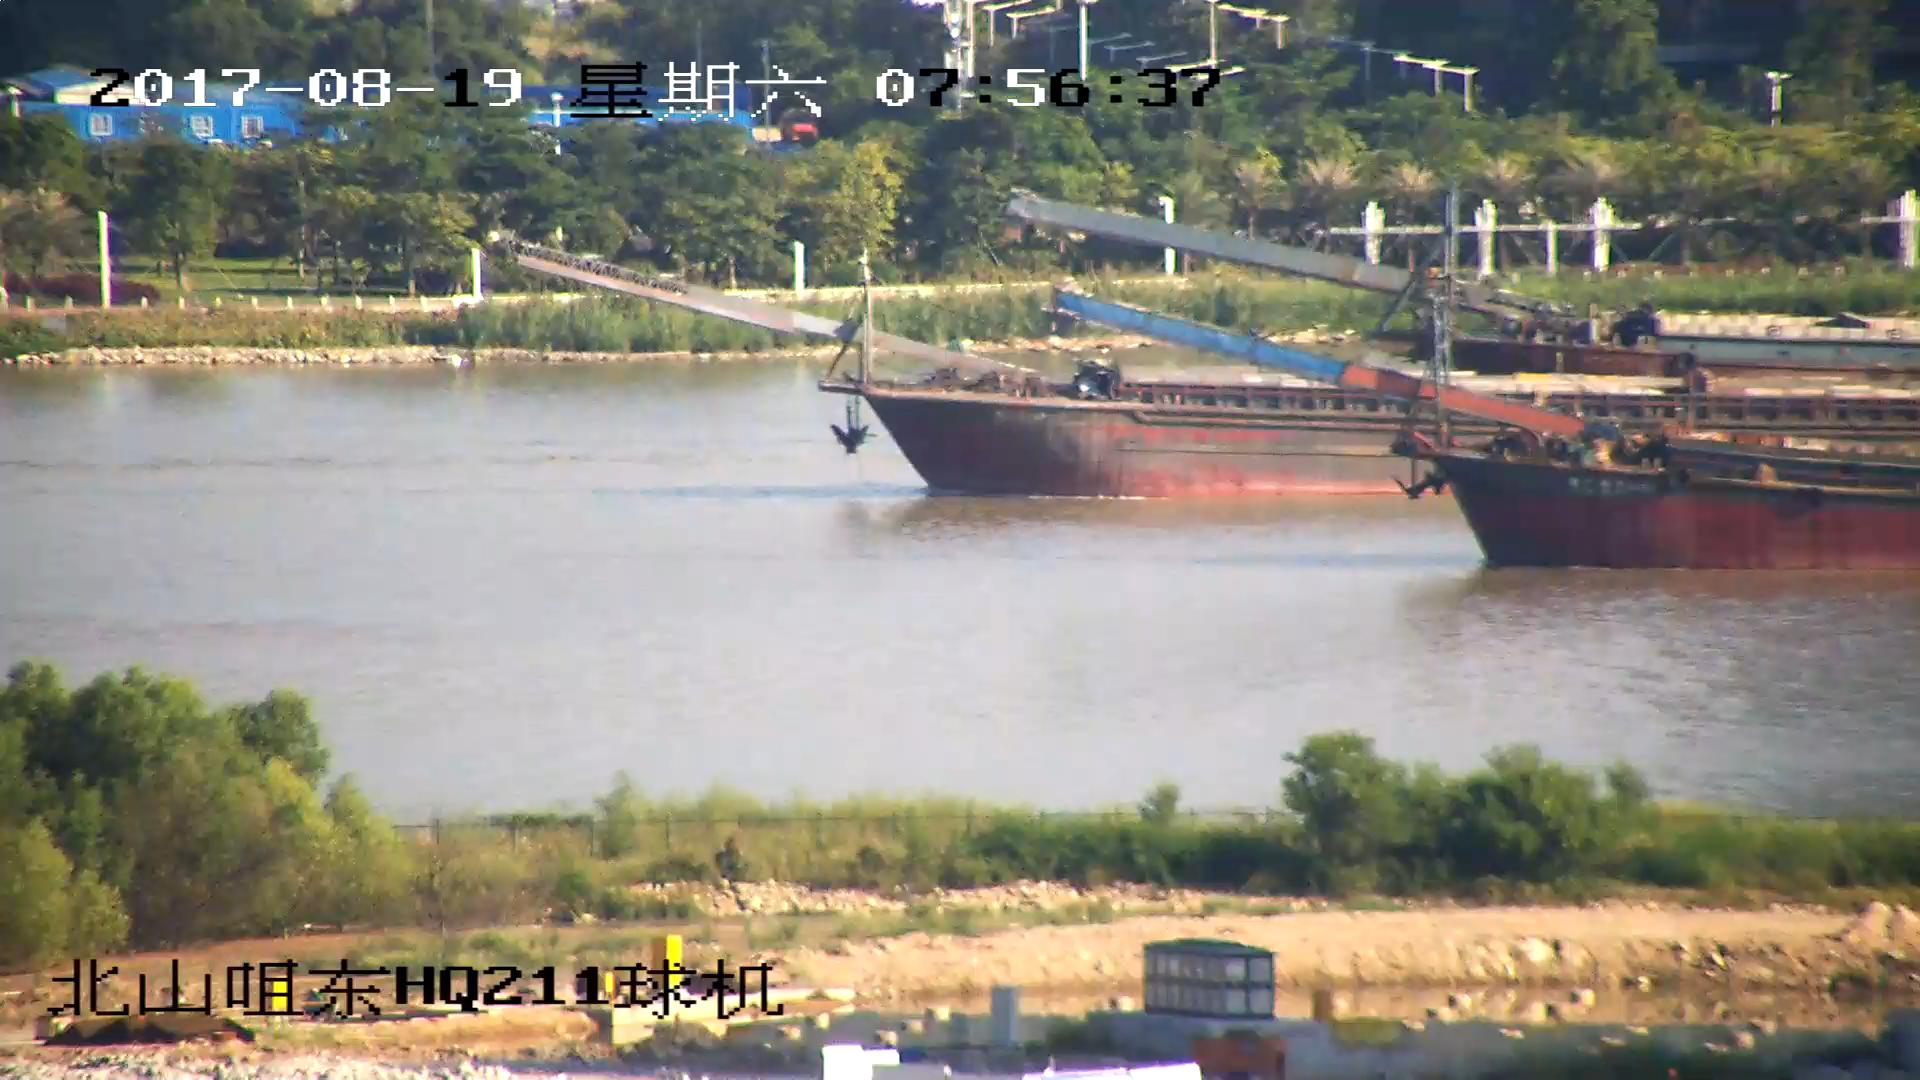bulk cargo carrier: (1054, 290, 1920, 569), (489, 242, 1389, 504), (1016, 192, 1920, 379)
